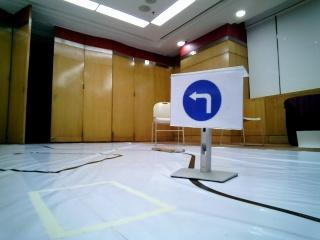left: (174, 77, 232, 127)
